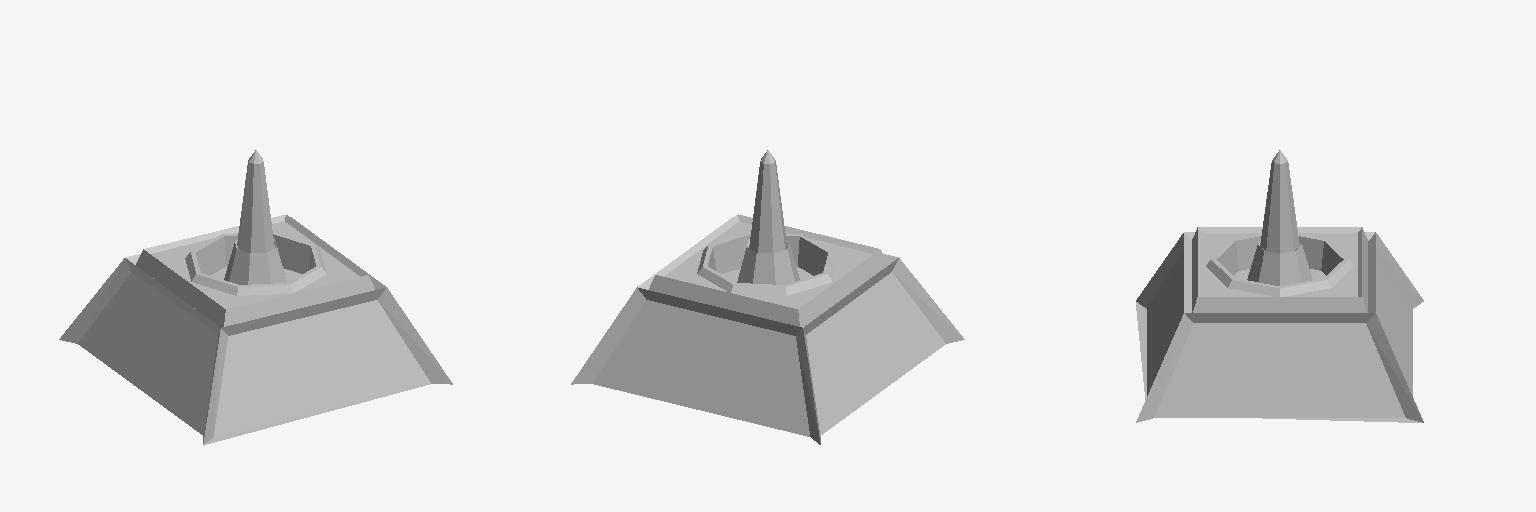
The model's file is NekronSoulWell.obj.
3 renders of one model, left to right at view 1: azimuth 30°, elevation 25°; view 2: azimuth 150°, elevation 25°; view 3: azimuth 270°, elevation 25°, orthographic.
Parts seen in each view (by area): view 1: Cube_Cube.001; view 2: Cube_Cube.001; view 3: Cube_Cube.001.
Part boxes in pixels (x1,y1,x2,y2): Cube_Cube.001: (59,150,452,445); Cube_Cube.001: (571,150,964,444); Cube_Cube.001: (1136,150,1423,422).
Size of the model in its own units: 4.01 by 3.25 by 4.01.